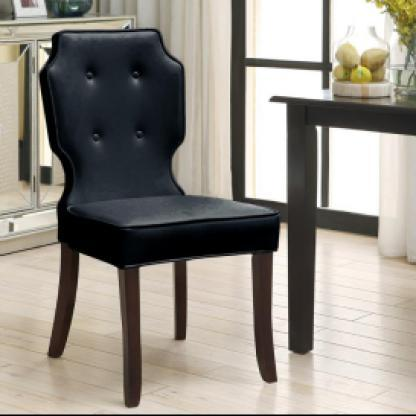chair: (32, 25, 288, 413)
table: (270, 90, 416, 356)
